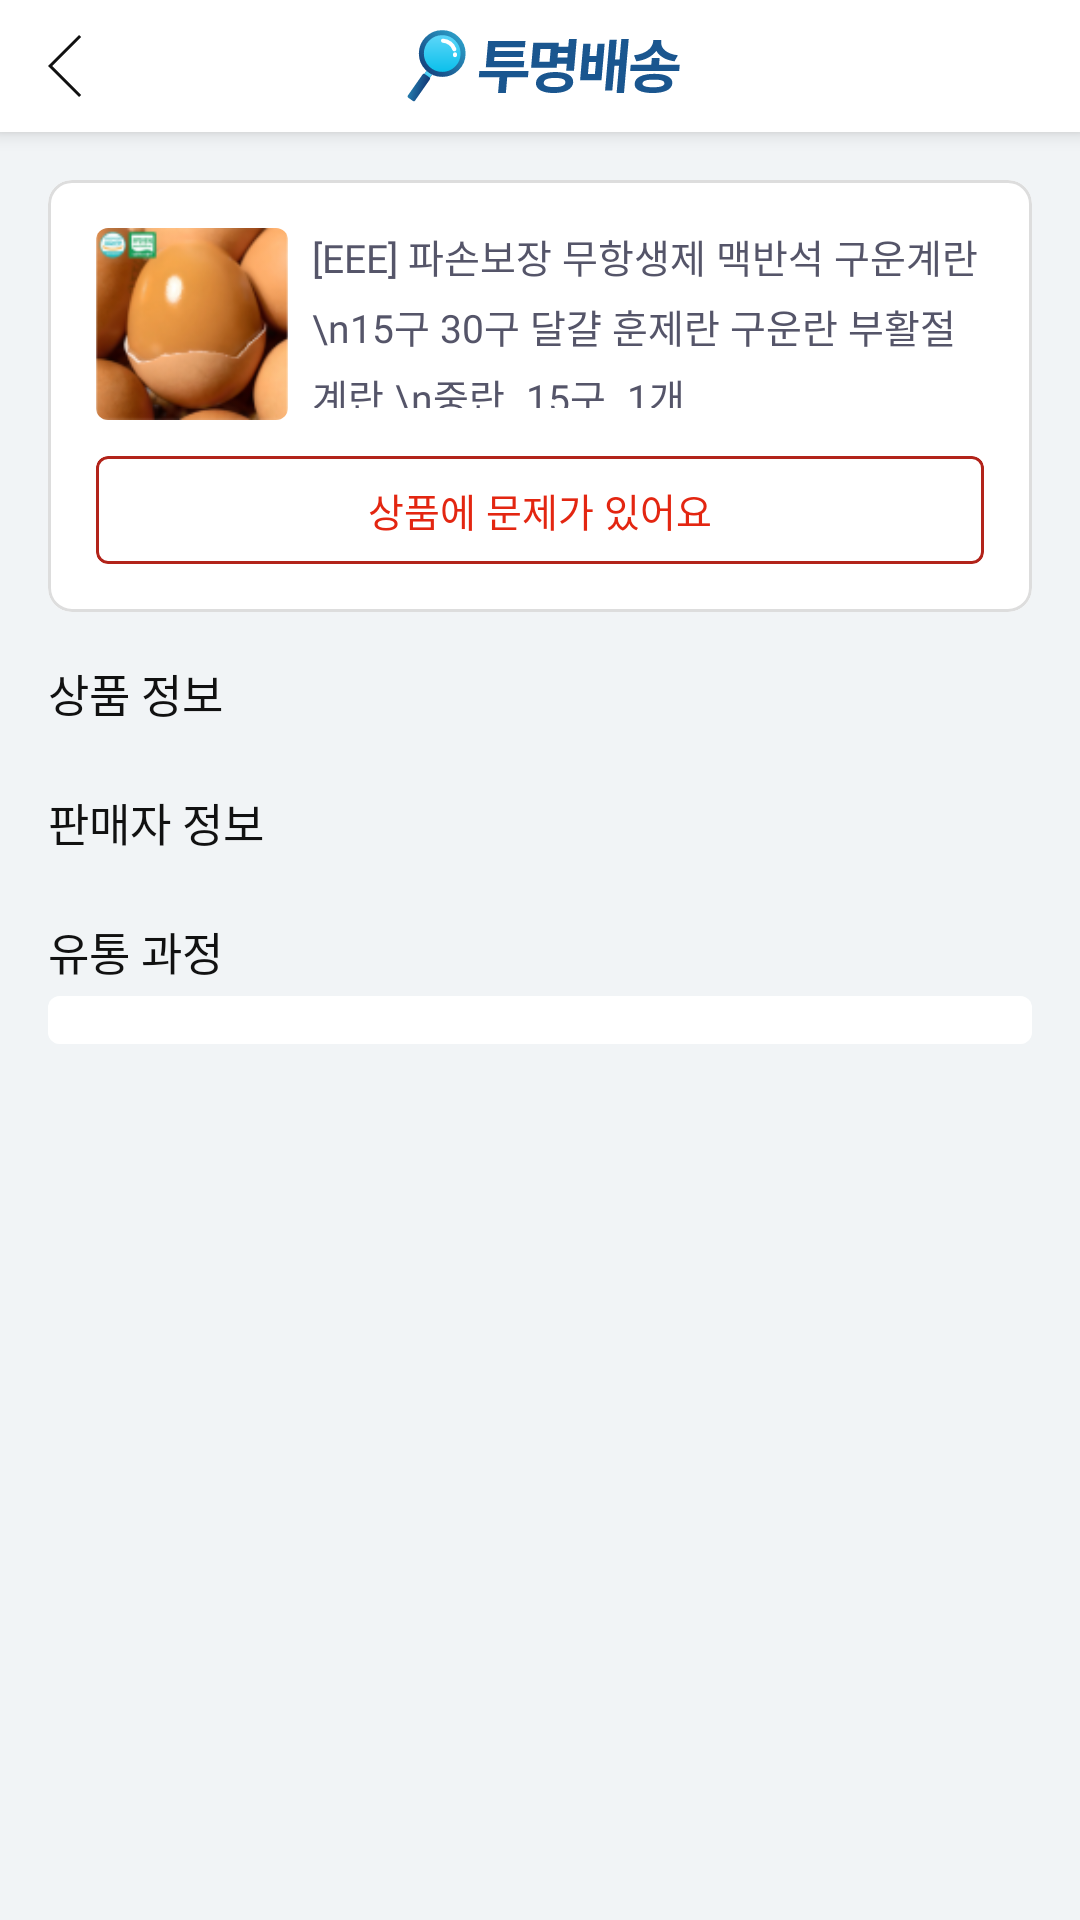

Named icons in this screenshot (1080*1920) and their bounding boxes, (x1, y1, x2, y2):
left arrow: (48, 35, 81, 97)
